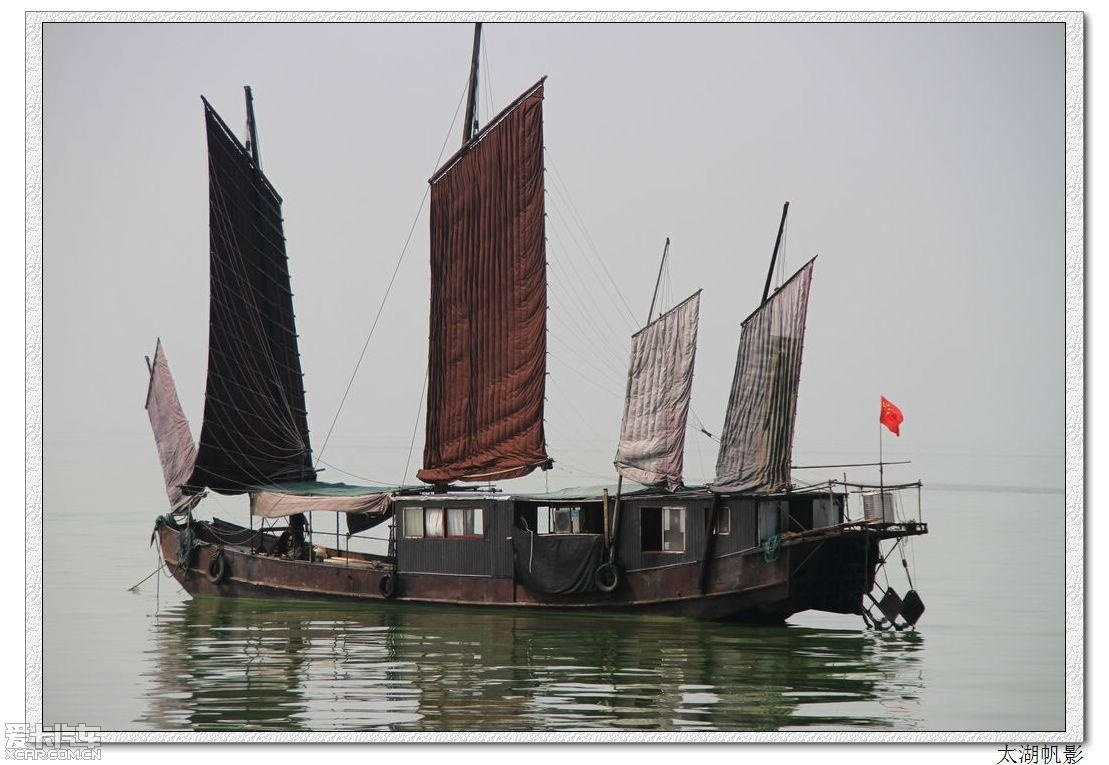fanchuan: (127, 22, 927, 620)
